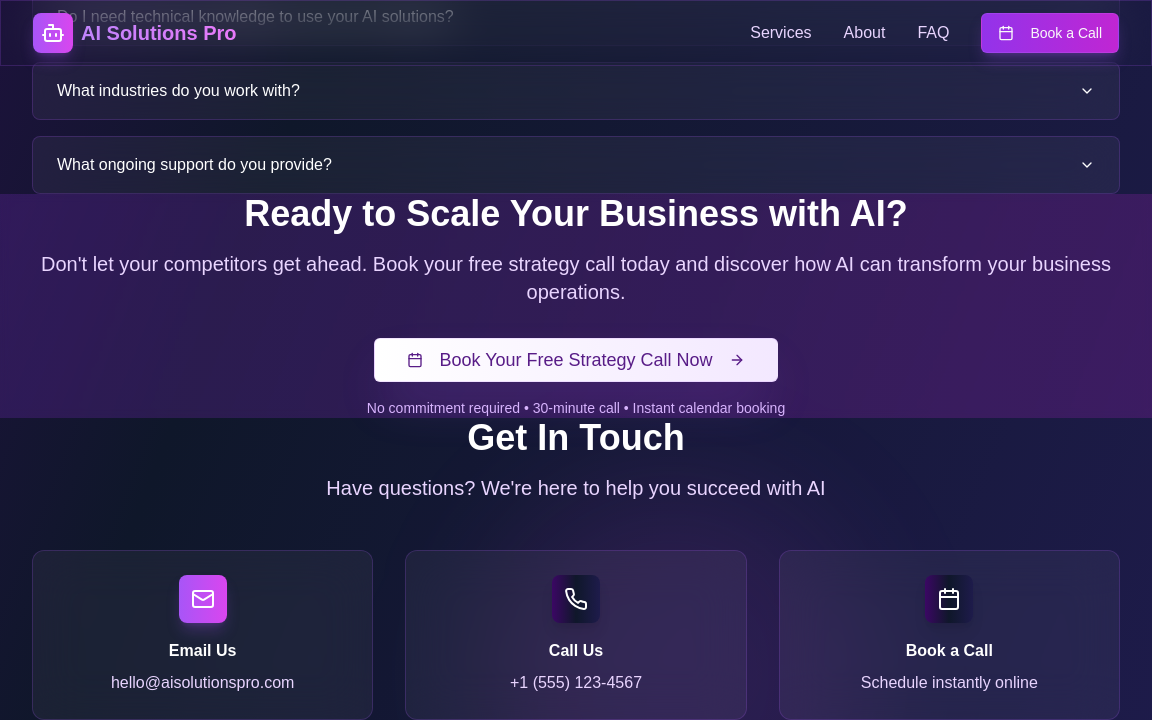
Complete Booking Flow Integration › allows booking from final CTA section
The width and height of the screenshot is (1152, 720).
(page scrolled)
Scroll to and click final CTA
Click the button "Book Your Free Strategy Call Now".
click(576, 360)  # box x1=374 y1=338 x2=778 y2=382
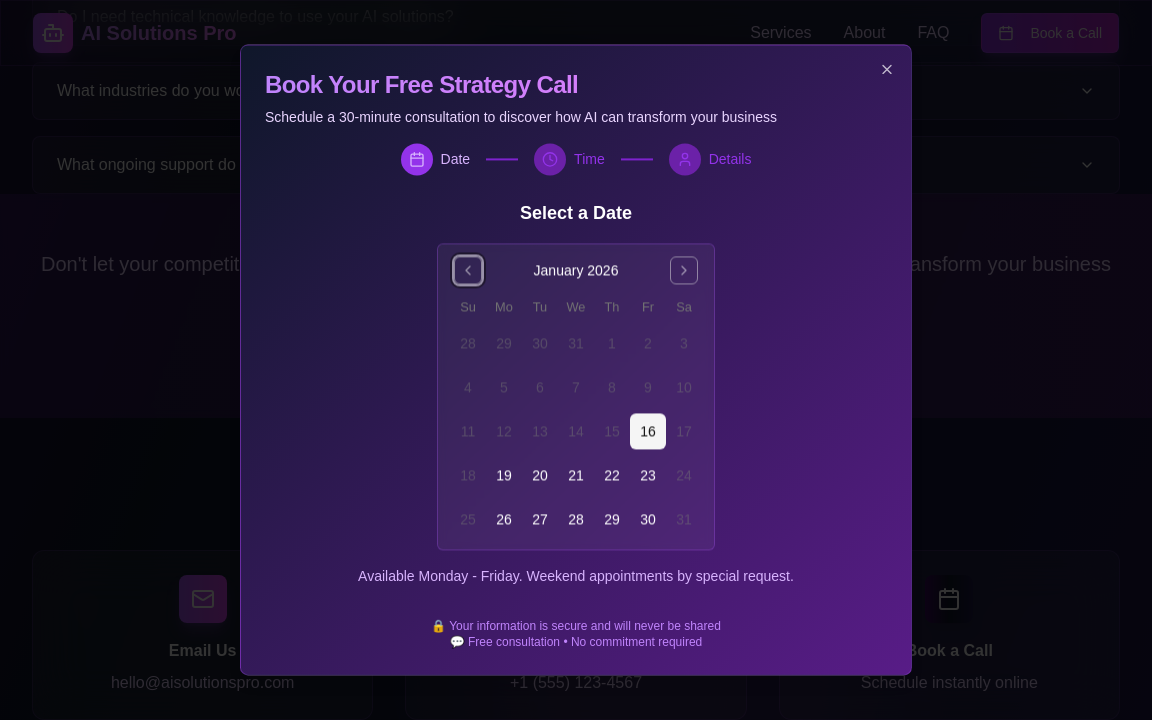
Expected: the dialog is shown, x1=240 y1=44 x2=912 y2=676
